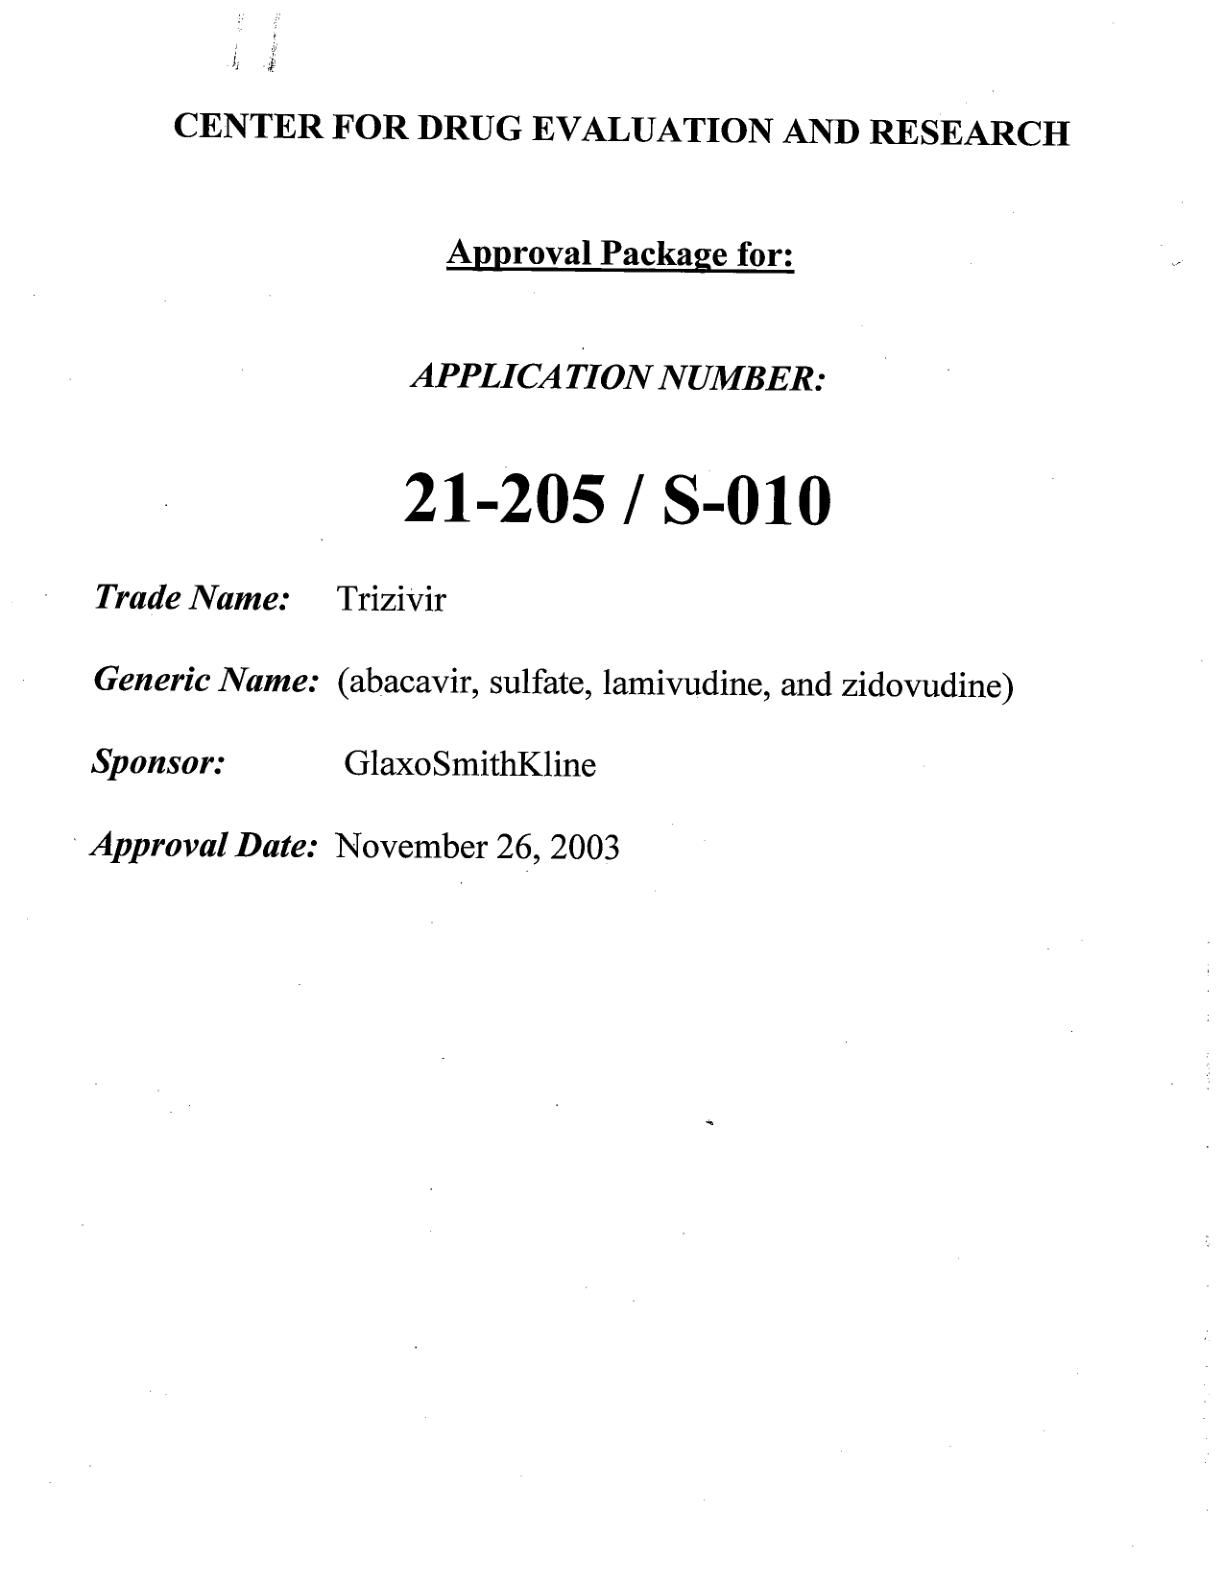nolines: (87, 575, 1018, 870)
